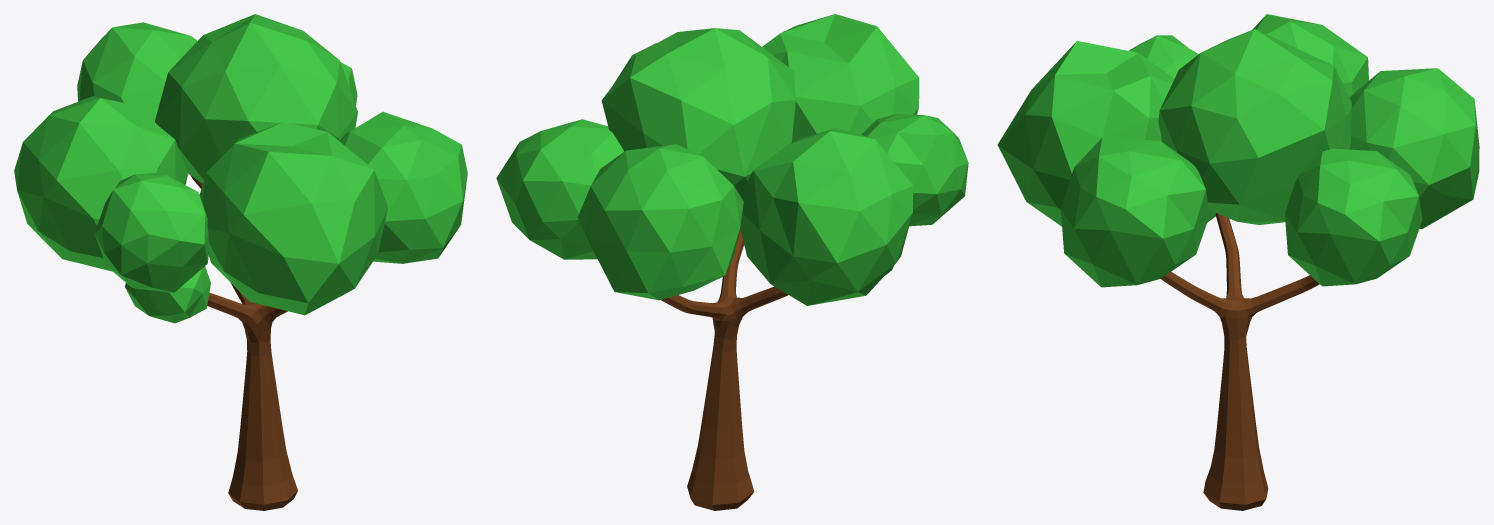
The model's file is Laubbaum-fixed.fbx.
3 views of the same model, side by side, from view 1: azimuth 30°, elevation 25°; view 2: azimuth 150°, elevation 25°; view 3: azimuth 270°, elevation 25° (orthographic). The views are drawn at different scales.
Visible parts, largest first — view 1: Icosphere.001, Plane; view 2: Icosphere.001, Plane; view 3: Icosphere.001, Plane.
Boxes of the visible parts, bbox=[...] form: Icosphere.001: bbox=[14, 14, 467, 323]; Plane: bbox=[190, 175, 297, 510]; Icosphere.001: bbox=[496, 14, 968, 305]; Plane: bbox=[661, 228, 788, 510]; Icosphere.001: bbox=[997, 14, 1479, 287]; Plane: bbox=[1161, 213, 1319, 510].
Size of the model in its own units: 794 by 1018 by 944.
